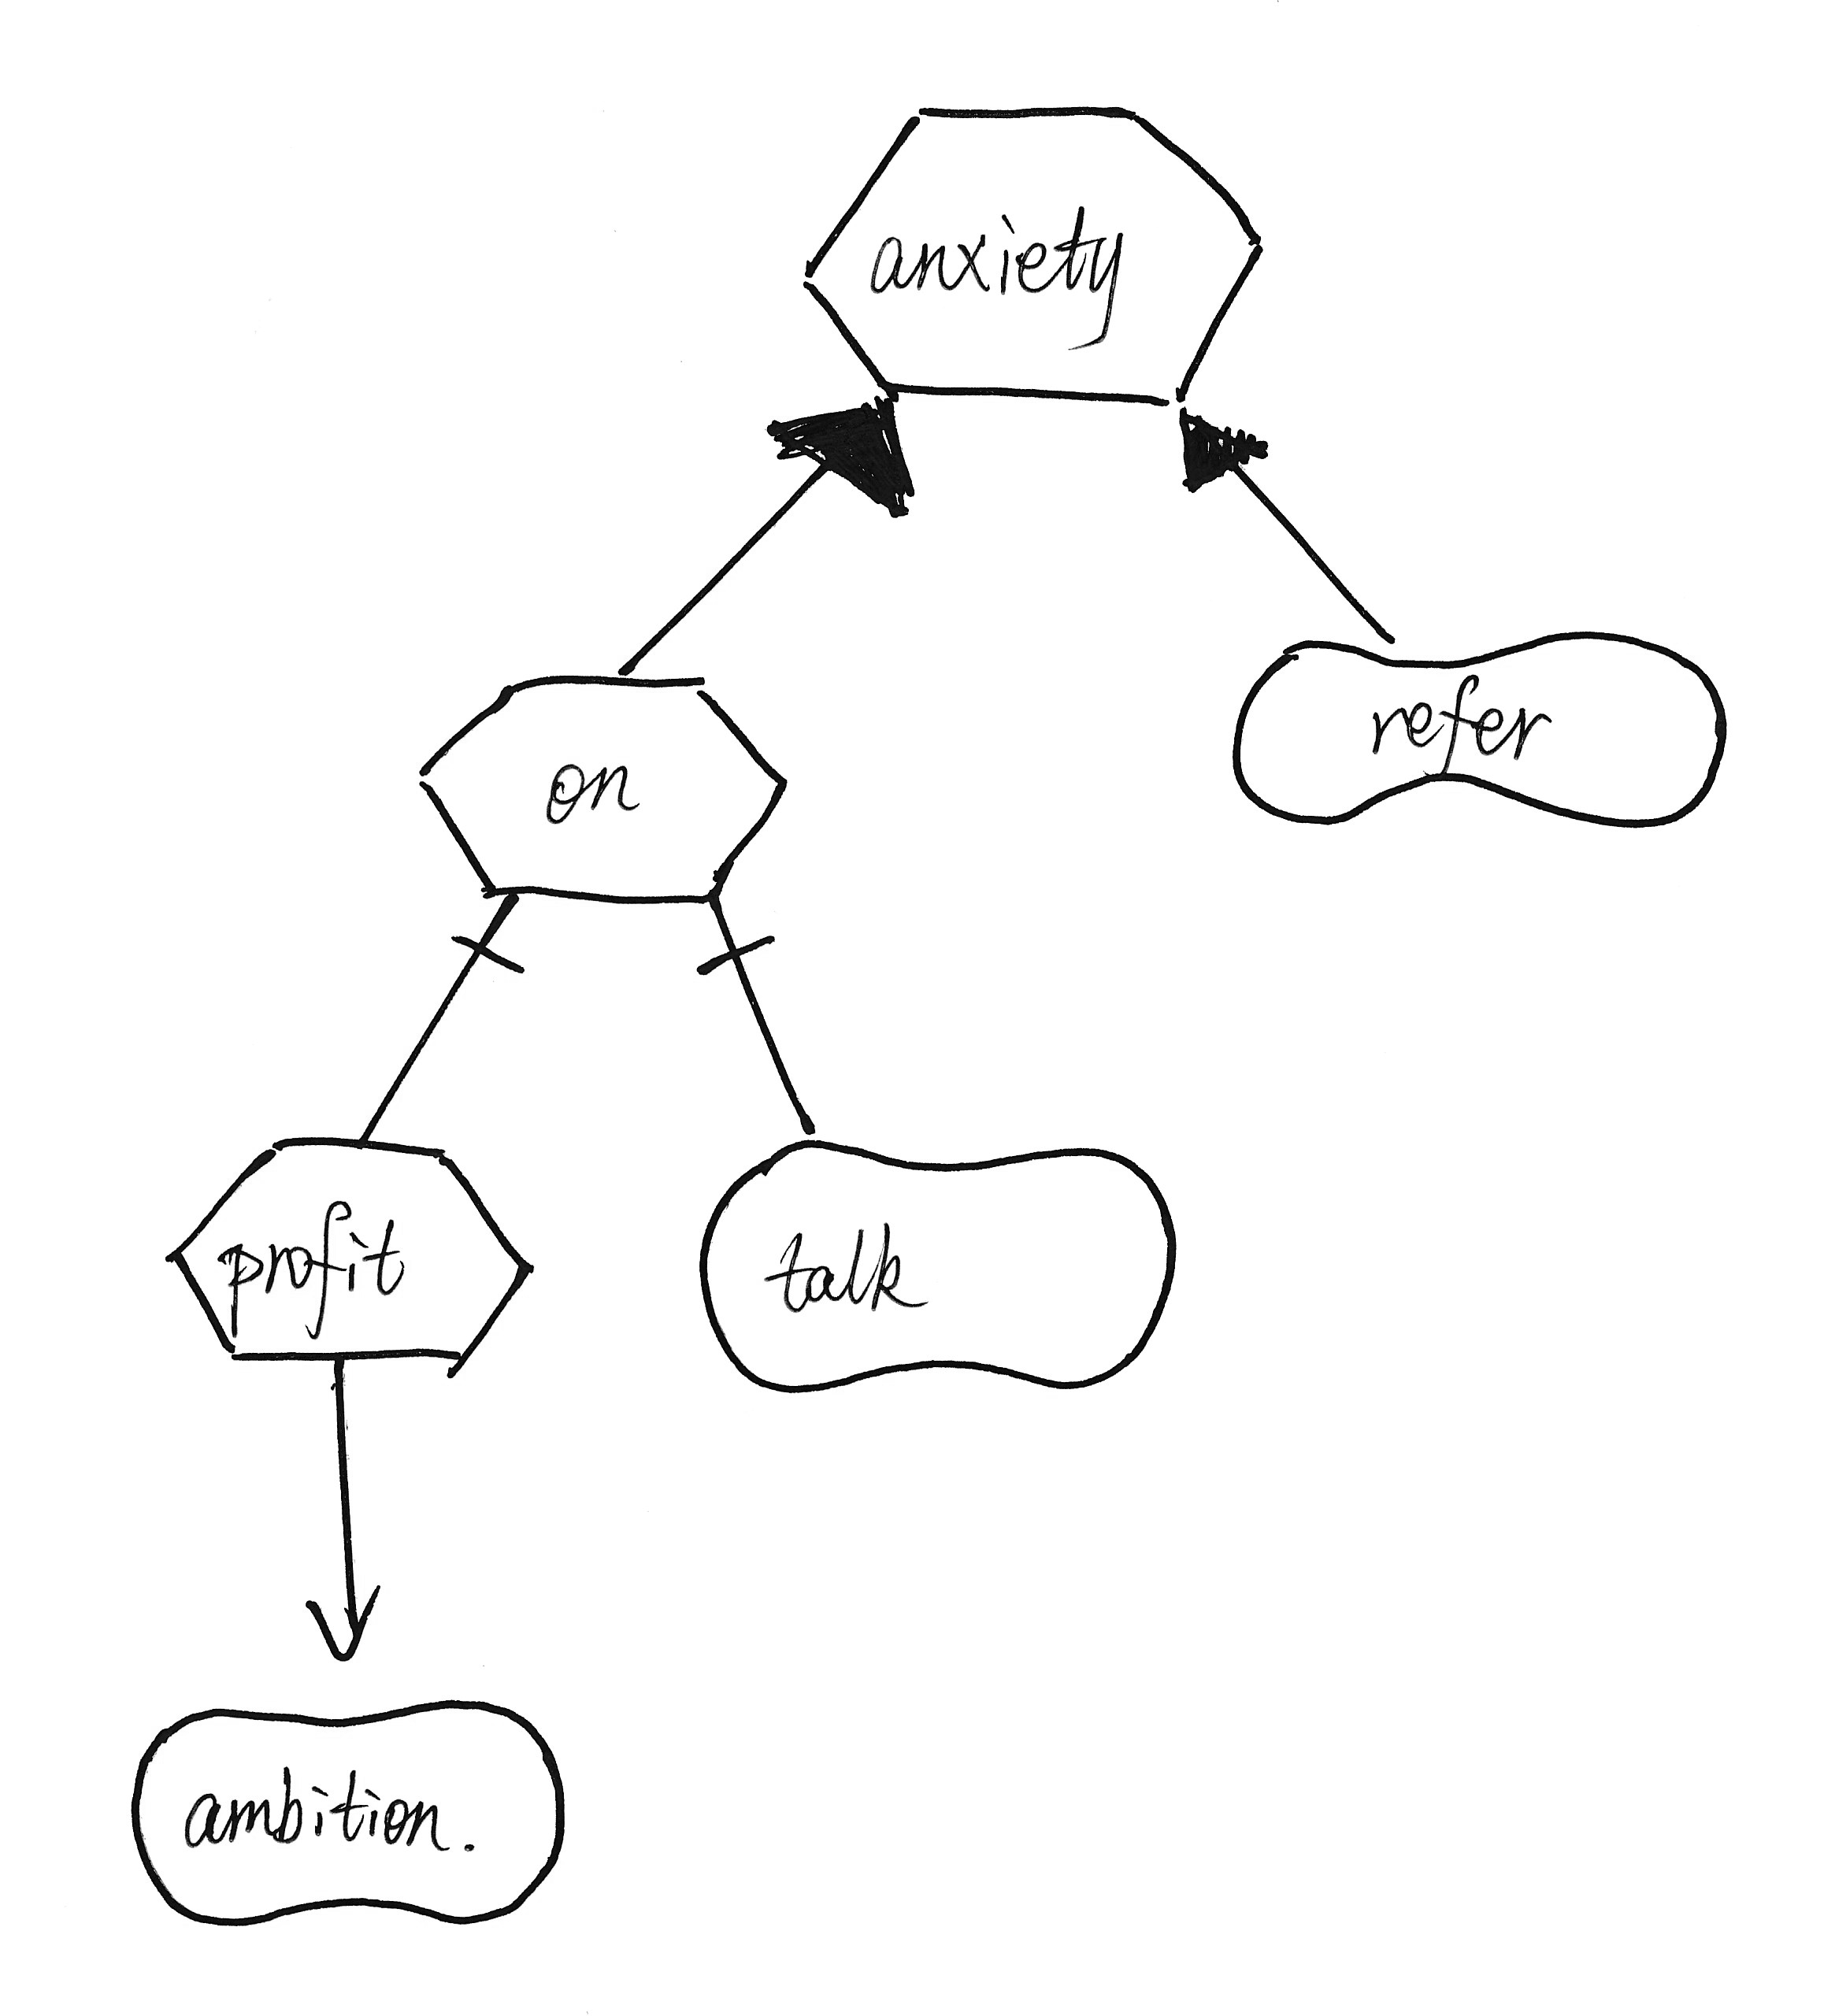and: (430, 892, 553, 999), (683, 910, 795, 1003)
arrow: (295, 1572, 420, 1677)
or: (743, 367, 953, 537), (1164, 393, 1299, 504)
quality: (690, 1113, 1194, 1408), (1218, 616, 1759, 848), (116, 1686, 583, 1942)
task: (786, 74, 1276, 428), (393, 653, 804, 927), (135, 1117, 548, 1384)
